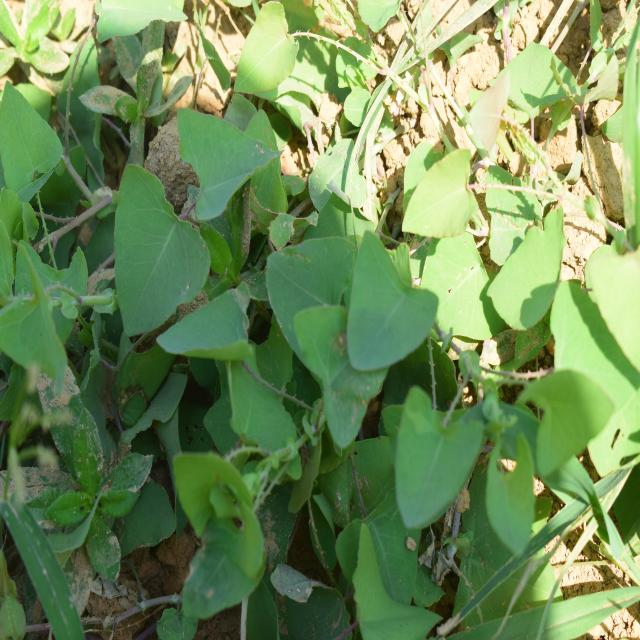Asiatic_Smartweed: (350, 227, 613, 536), (168, 228, 355, 570), (86, 109, 280, 332)
